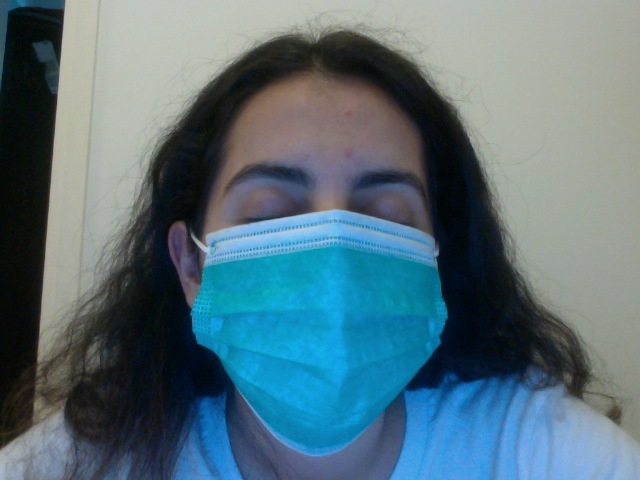mask: (210, 235, 439, 440)
